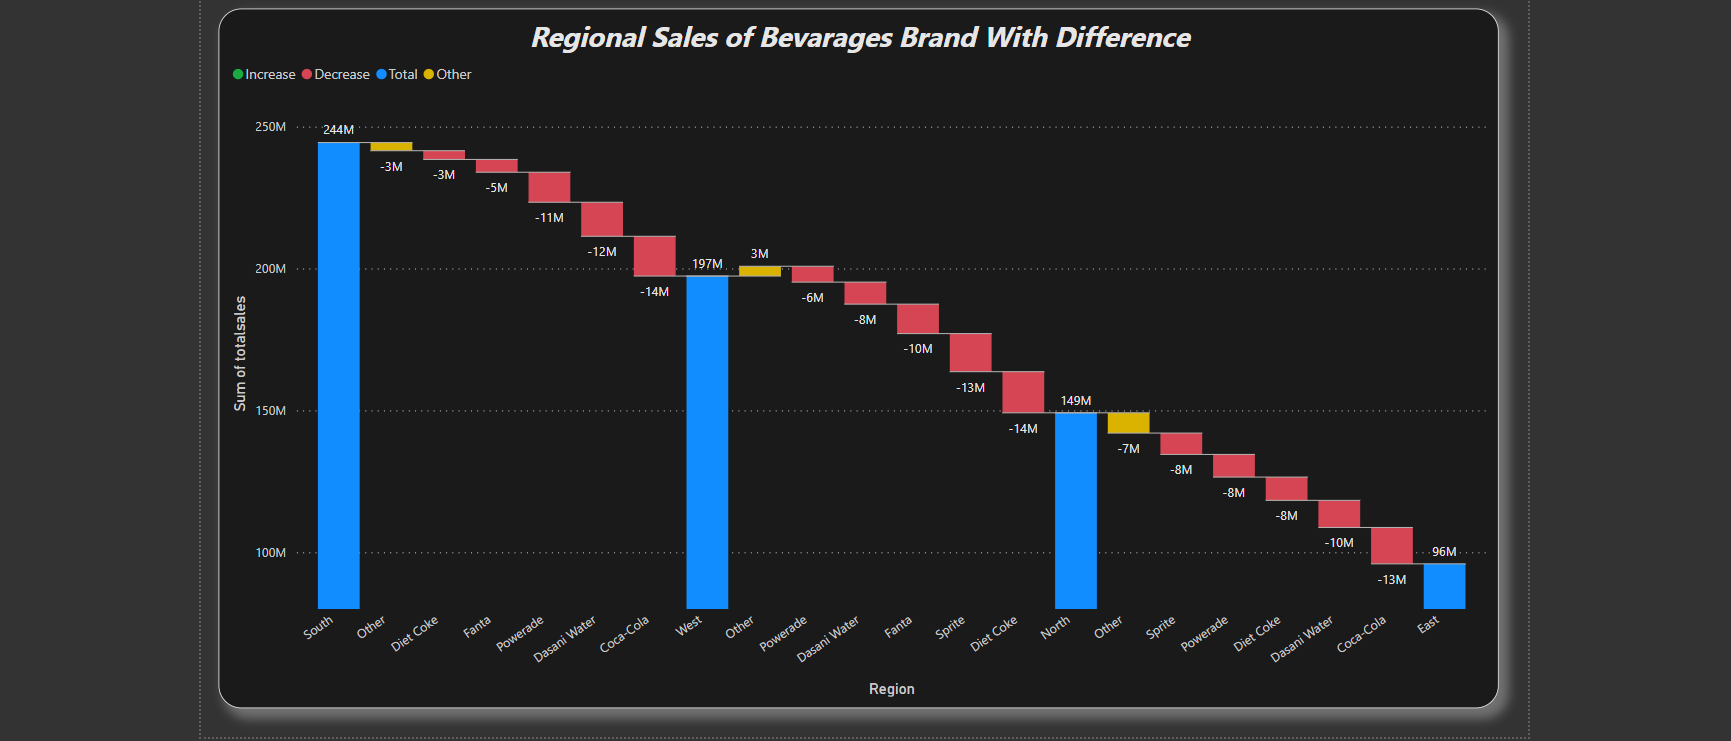

What the dashboard file says about the page in this screenshot:
{"tool":"powerbi","page":{"name":"Page 2","canvas":[1280,720],"ordinal":1},"visuals":[{"type":"waterfallChart","title":"Regional Sales of Bevarages Brand With Difference","fields":{"Category":["bv india.Region"],"Y":["Sum(bv india.totalsales)"],"Breakdown":["bv india.brand"]},"box":[16.5,16.5,1235,675.1],"z":0}]}

Visuals, with their boxes on the page's 1280x720 design canvas (x1, y1, x2, y2). These are canvas units, not pixel positions in the 1731x741 screenshot, which may show the page scaled, cropped or inside an application window:
"Regional Sales of Bevarages Brand With Difference" waterfallChart: [16, 16, 1252, 692]
